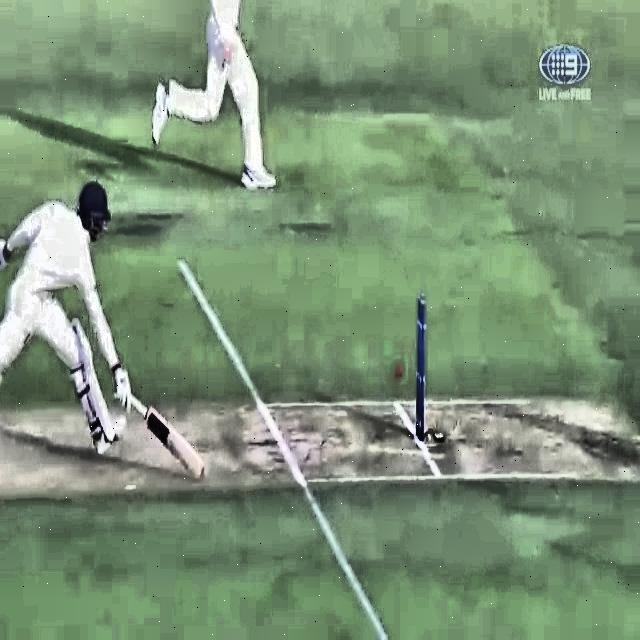Ball: (389, 363, 405, 385)
Bat: (121, 388, 212, 482)
Pitch_Line: (175, 256, 387, 640)
Undis_Wicket: (409, 290, 434, 445)
